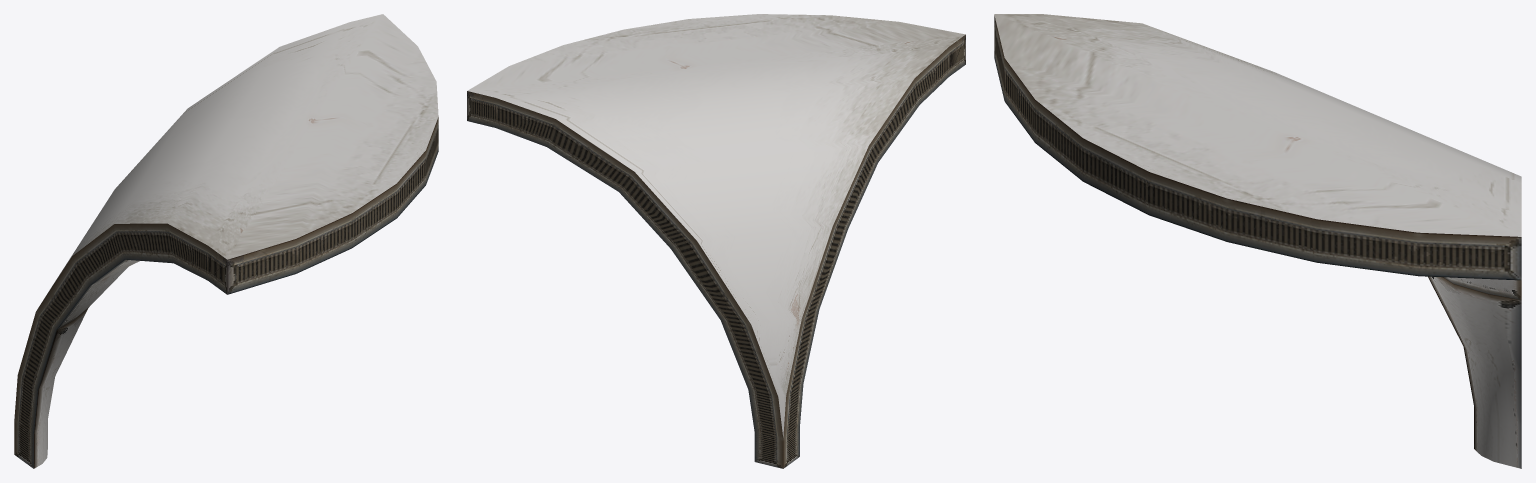
File: scifi_wall_top2_curve1_1.FBX
3 renders of one model, left to right at view 1: azimuth 30°, elevation 25°; view 2: azimuth 150°, elevation 25°; view 3: azimuth 270°, elevation 25°, orthographic. The views are drawn at different scales.
Visible parts, largest first — view 1: Plane341; view 2: Plane341; view 3: Plane341.
Part boxes in pixels (x1,y1,x2,y2): Plane341: (14,14,438,468); Plane341: (467,14,965,468); Plane341: (994,14,1521,468).
Bounding box in the file's own units: 279 × 254 × 279.
